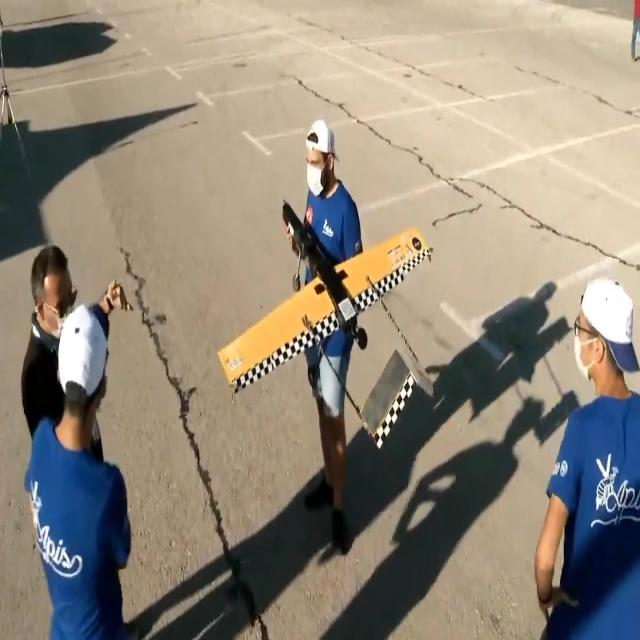iha: (216, 196, 433, 447)
